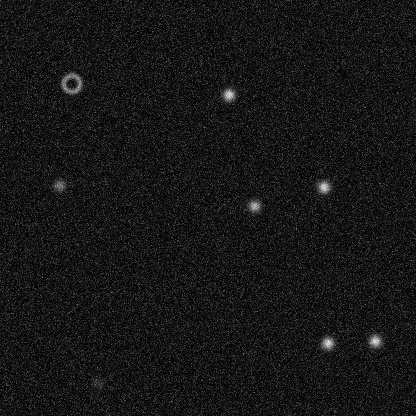Ring: (59, 71, 83, 95)
Spot: (220, 86, 236, 102), (246, 197, 262, 213), (89, 374, 105, 390), (366, 332, 382, 348), (315, 179, 331, 195), (51, 177, 67, 193), (319, 335, 335, 351)
